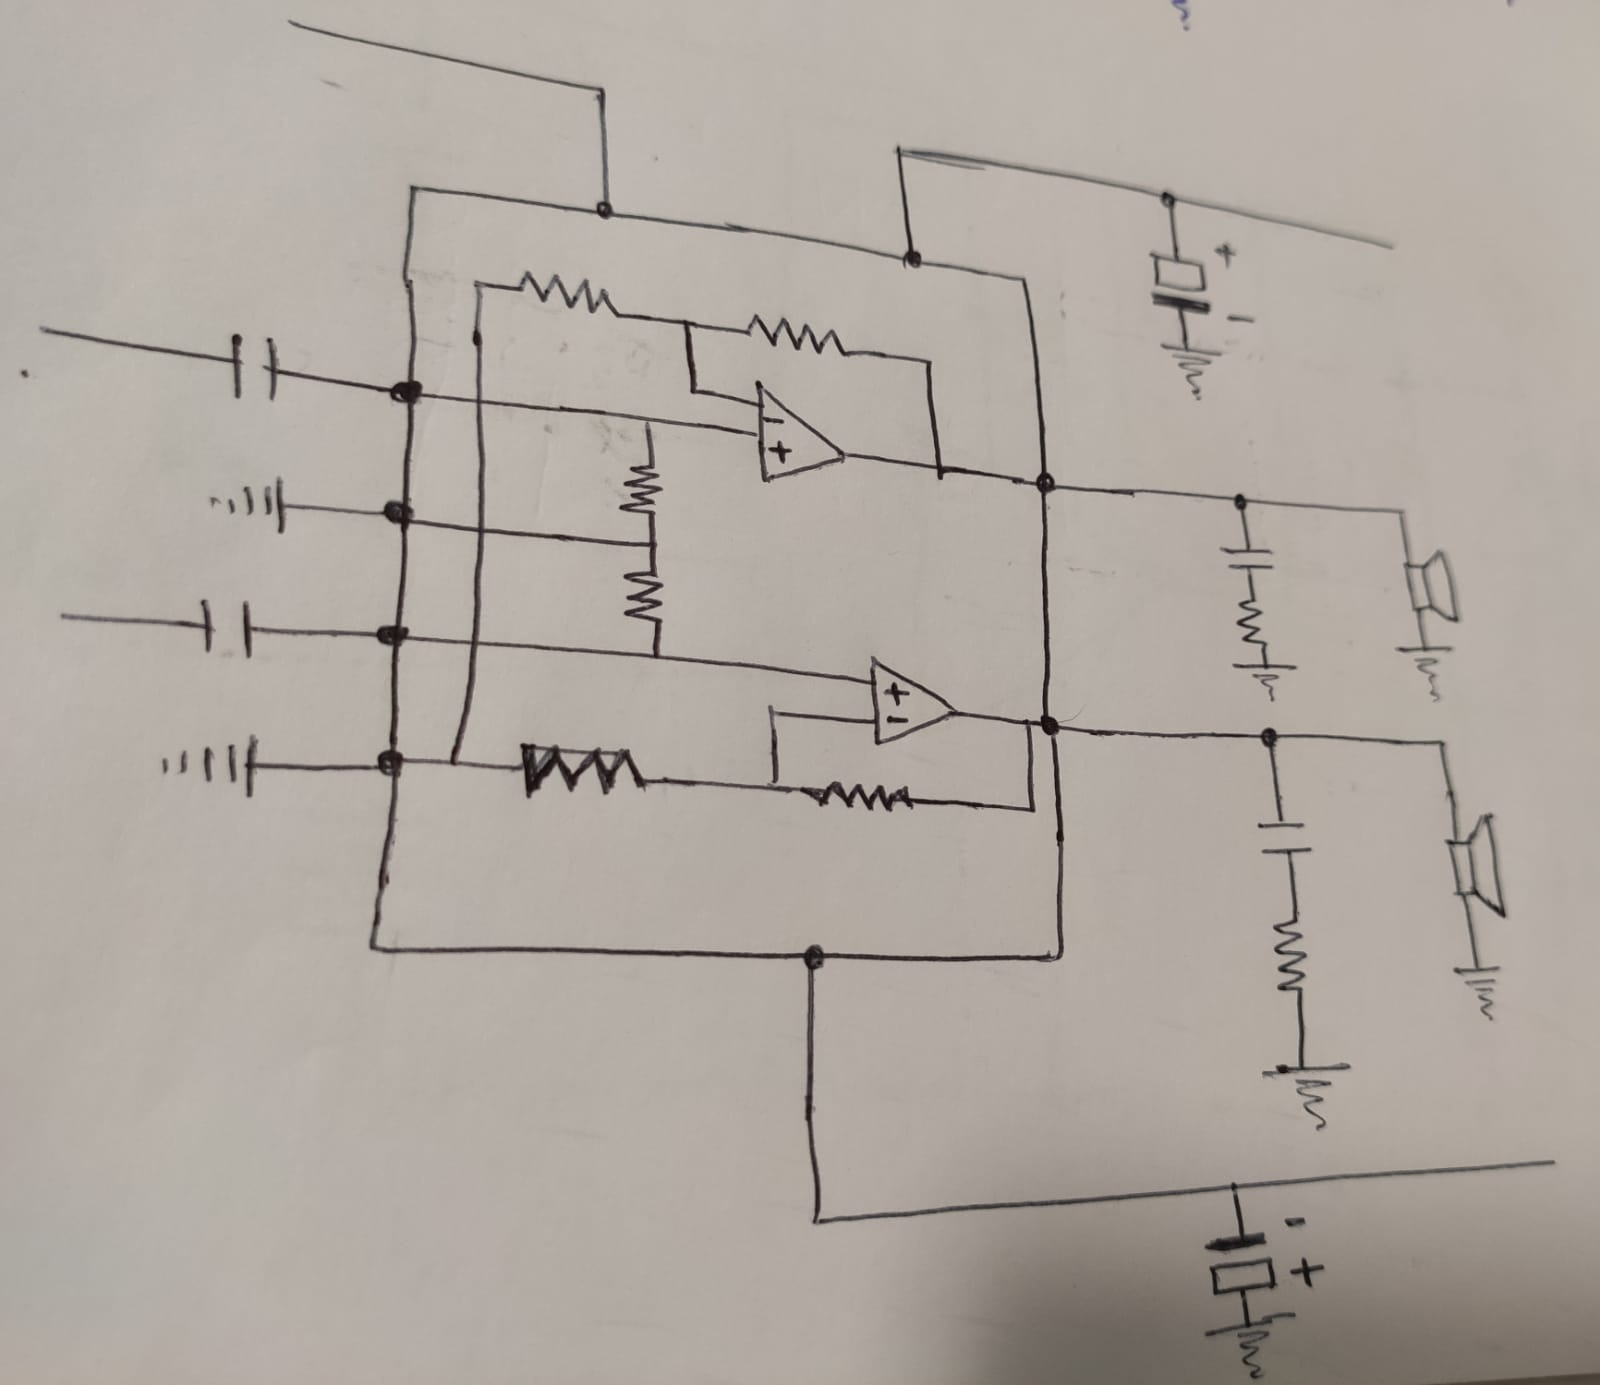capacitor.polarized: (1201, 1214, 1324, 1298), (1150, 239, 1254, 333)
capacitor.unpolarized: (1244, 804, 1327, 876), (220, 331, 283, 399), (195, 595, 259, 658), (1218, 537, 1282, 573)
gnd: (1261, 1054, 1347, 1136), (159, 732, 263, 799), (1212, 1307, 1303, 1382), (211, 473, 291, 536), (1152, 336, 1224, 405), (1222, 658, 1314, 710), (1448, 956, 1509, 1024), (1397, 642, 1454, 699)
junction: (1020, 457, 1068, 505), (890, 235, 933, 283), (386, 371, 429, 415), (377, 497, 423, 533), (371, 741, 410, 781), (371, 619, 414, 652), (1150, 182, 1189, 216), (584, 71, 616, 112), (352, 927, 389, 962), (1037, 939, 1075, 973), (758, 769, 792, 804), (1034, 710, 1067, 744), (799, 941, 831, 975), (589, 192, 620, 227), (439, 747, 472, 780), (759, 697, 790, 731), (1016, 793, 1046, 827), (1010, 712, 1041, 743), (1252, 722, 1284, 752), (801, 1207, 833, 1237), (644, 642, 675, 672), (672, 310, 703, 340), (1216, 1175, 1249, 1204), (888, 139, 918, 169), (459, 629, 488, 658), (679, 374, 710, 403), (467, 271, 495, 301), (1008, 267, 1039, 294), (927, 454, 954, 484), (467, 518, 497, 546), (1427, 731, 1454, 759), (467, 386, 493, 416), (914, 352, 941, 376), (403, 178, 429, 201), (1229, 490, 1252, 514), (639, 533, 663, 556), (635, 412, 659, 433), (1390, 503, 1408, 522)
operational_amplifier: (746, 373, 852, 488), (859, 650, 959, 750)
resistor: (518, 737, 646, 799), (740, 313, 848, 355), (518, 271, 616, 316), (612, 452, 671, 527), (1273, 905, 1316, 1008), (805, 775, 918, 814), (619, 561, 673, 635), (1231, 596, 1282, 650)
speaker: (1450, 808, 1507, 920), (1396, 546, 1468, 620)
terminal: (24, 312, 69, 350), (50, 599, 91, 637), (278, 10, 316, 42), (1367, 230, 1403, 263), (1531, 1148, 1565, 1177)
